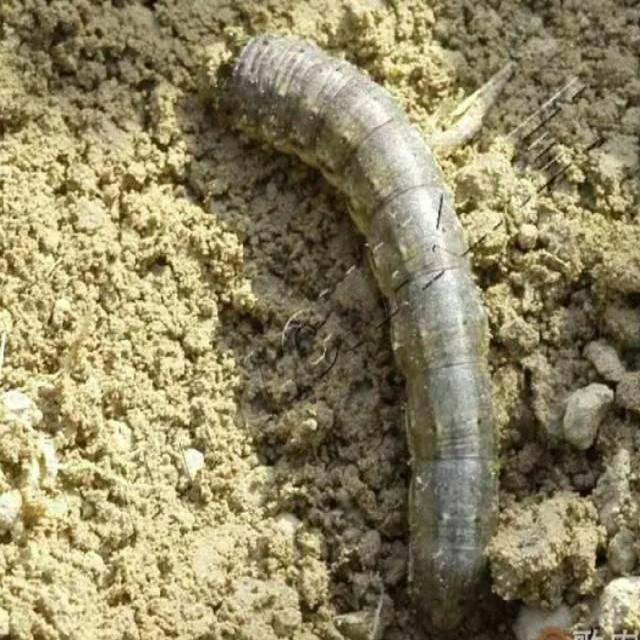black cutworm: (224, 37, 534, 623)
